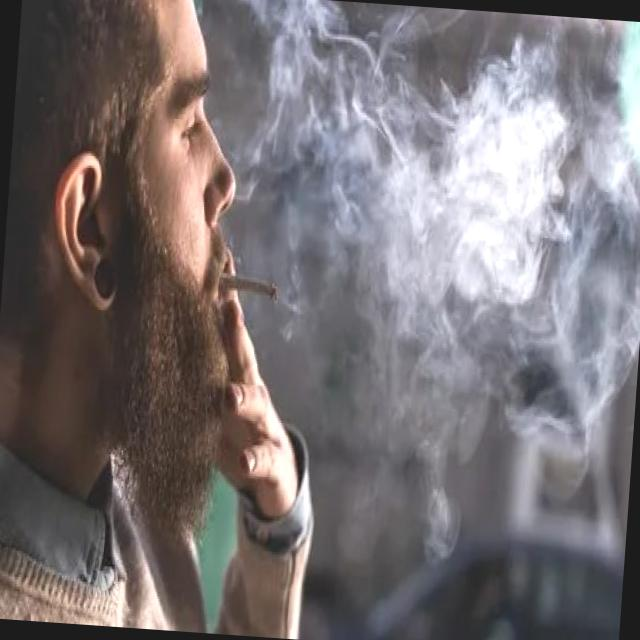smoke: (212, 264, 281, 306)
